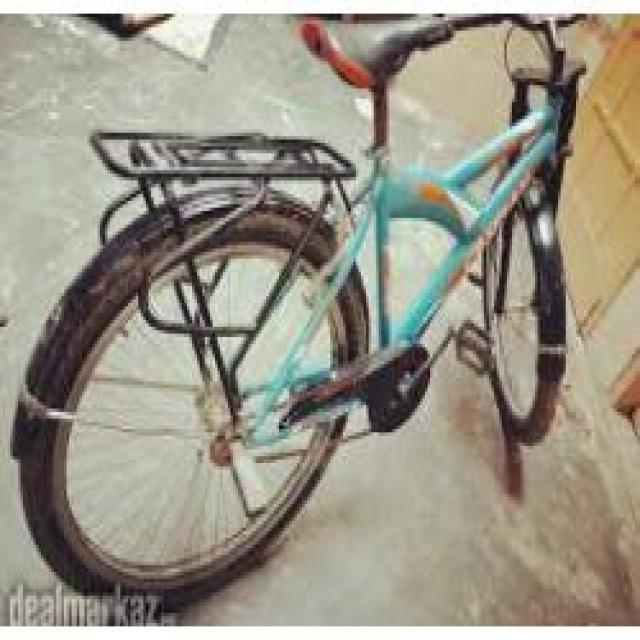bicycle: (21, 8, 595, 594)
